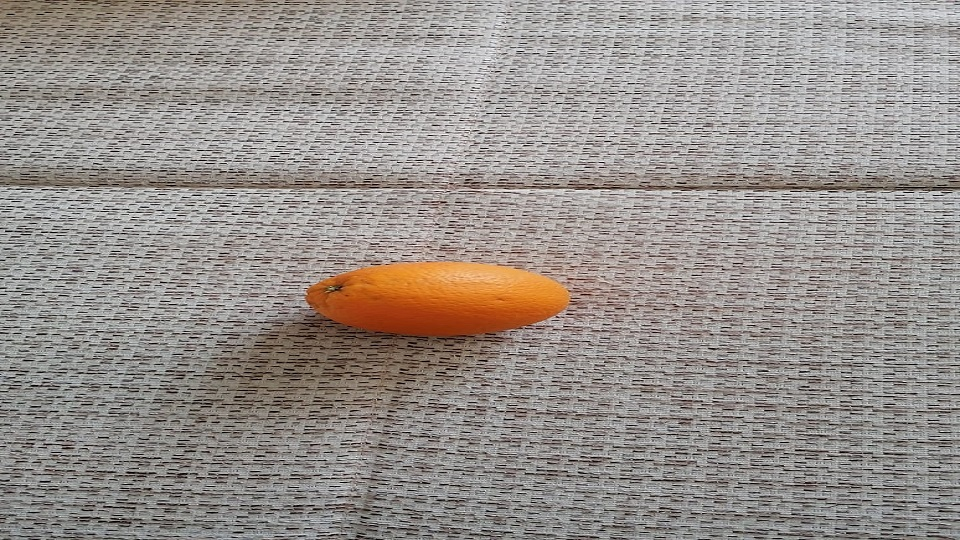portakal: (304, 260, 570, 338)
